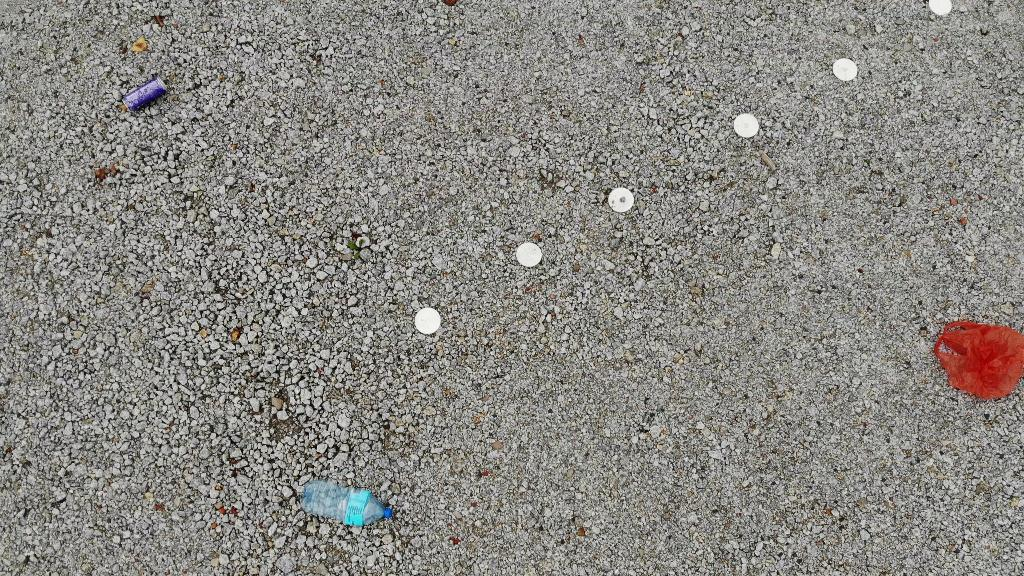garbage: (936, 318, 1024, 396), (297, 477, 396, 529)
